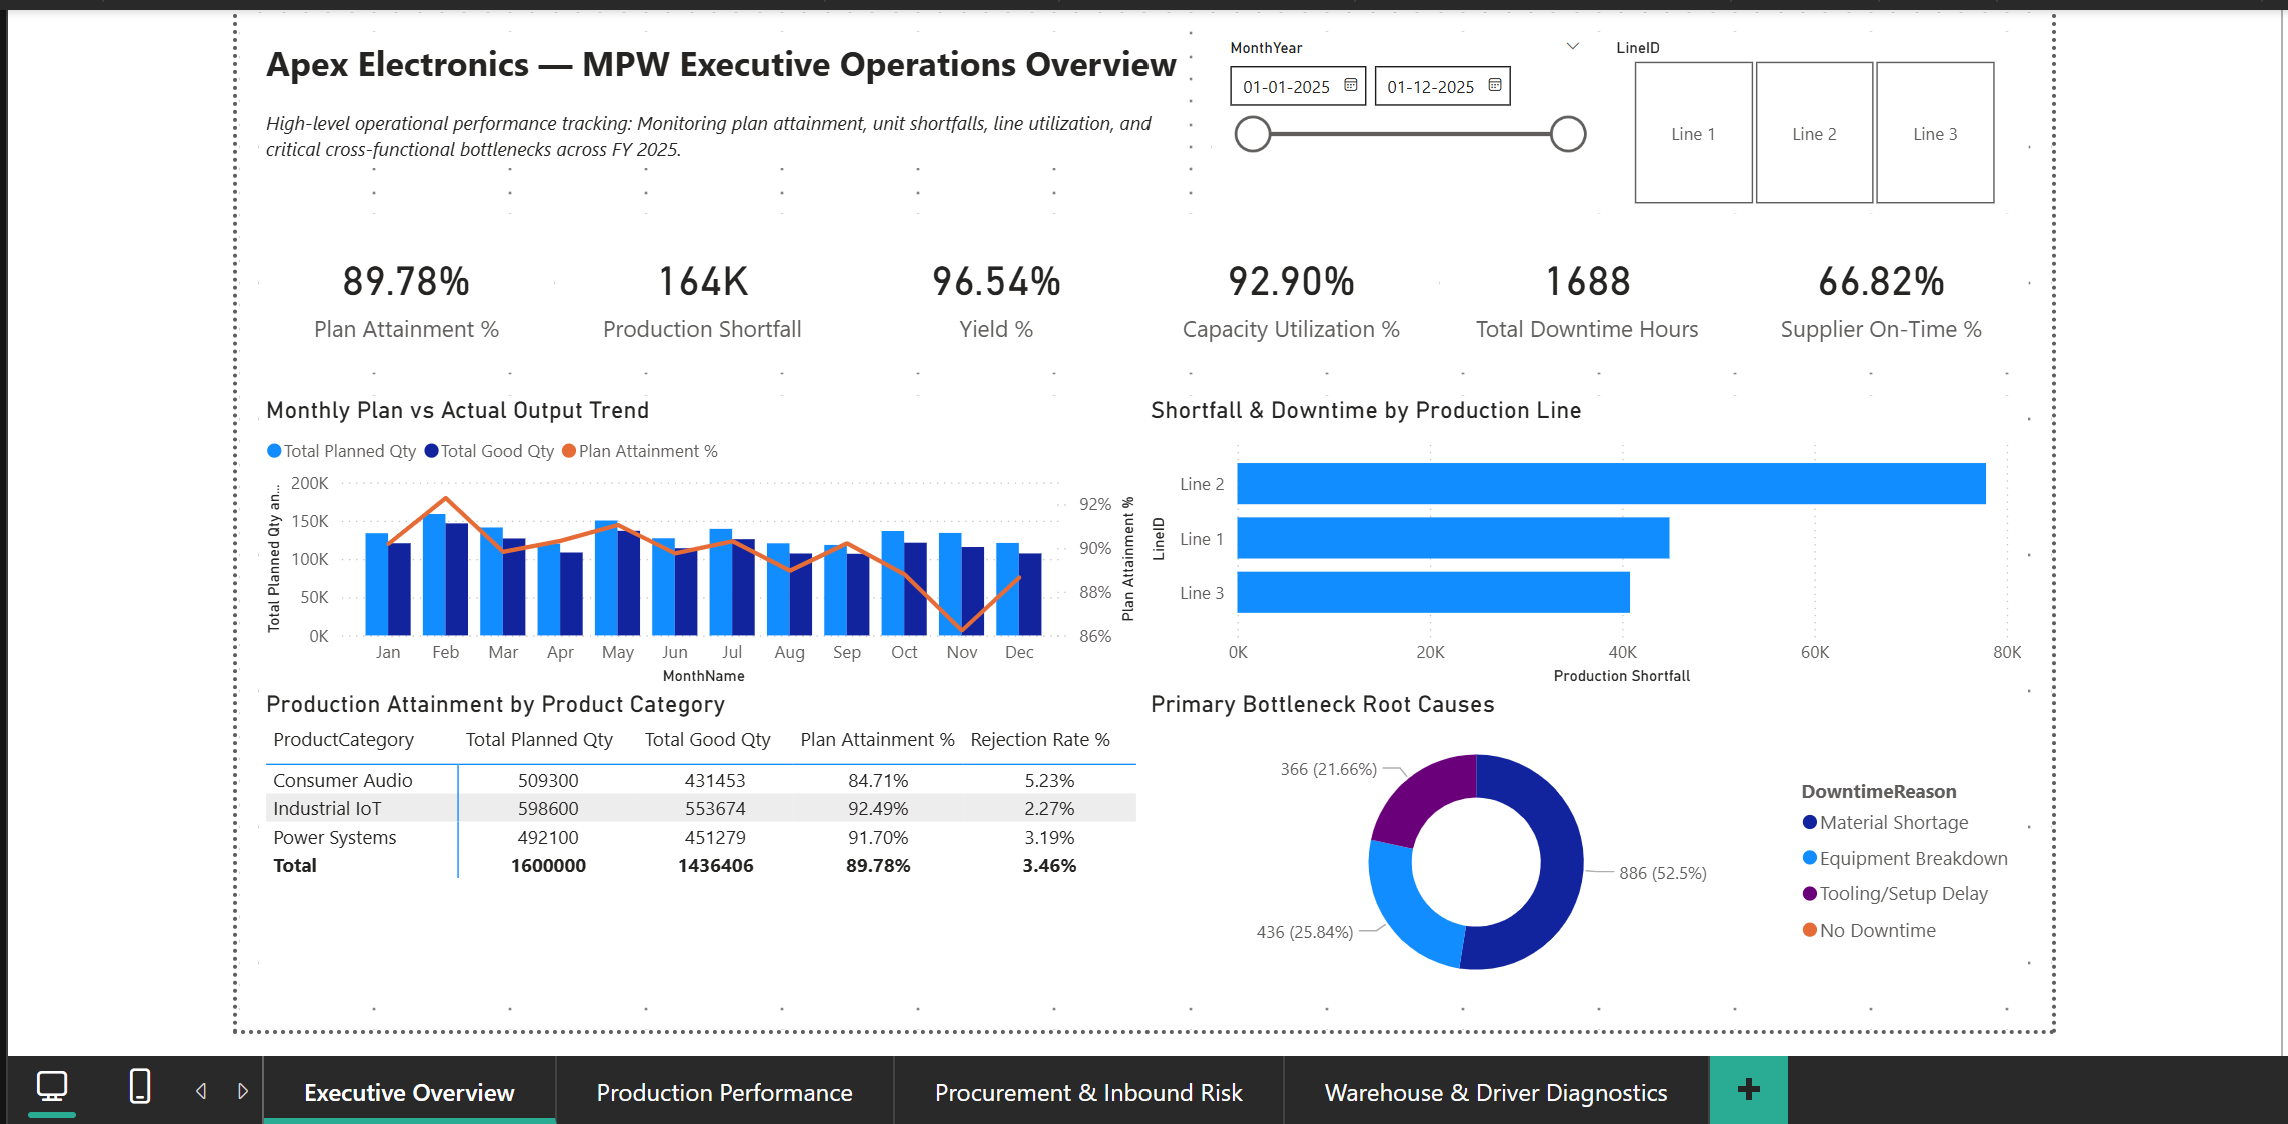

What the dashboard file says about the page in this screenshot:
{"tool":"powerbi","page":{"name":"Executive Overview","canvas":[1280,720],"ordinal":0},"visuals":[{"type":"textbox","box":[16,16,656,96],"z":0},{"type":"slicer","fields":{"Values":["Fact_ProductionRun.LineID"]},"box":[960,16,304,128],"z":1000},{"type":"slicer","fields":{"Values":["Dim_Date.MonthYear"]},"box":[688,16,272,128],"z":2000},{"type":"card","fields":{"Values":["_Measures.Plan Attainment %"]},"box":[16,144,208,112],"z":3000},{"type":"card","fields":{"Values":["_Measures.Production Shortfall"]},"box":[224,144,208,112],"z":4000},{"type":"card","fields":{"Values":["_Measures.Yield %"]},"box":[432,144,208,112],"z":5000},{"type":"card","fields":{"Values":["_Measures.Capacity Utilization %"]},"box":[640,144,208,112],"z":6000},{"type":"card","fields":{"Values":["_Measures.Total Downtime Hours"]},"box":[848,144,208,112],"z":7000},{"type":"card","fields":{"Values":["_Measures.Supplier On-Time %"]},"box":[1056,144,208,112],"z":8000},{"type":"lineClusteredColumnComboChart","title":"Monthly Plan vs Actual Output Trend","fields":{"Category":["Dim_Date.MonthName"],"Y":["_Measures.Total Planned Qty","_Measures.Total Good Qty"],"Y2":["_Measures.Plan Attainment %"]},"box":[16,272,624,208],"z":9000},{"type":"clusteredBarChart","title":"Shortfall & Downtime by Production Line","fields":{"Category":["Fact_ProductionRun.LineID"],"Y":["_Measures.Production Shortfall"]},"box":[640,272,624,208],"z":10000},{"type":"pivotTable","title":"Production Attainment by Product Category","fields":{"Rows":["Dim_Product.ProductCategory"],"Values":["_Measures.Total Planned Qty","_Measures.Total Good Qty","_Measures.Plan Attainment %","_Measures.Rejection Rate %"]},"box":[16,480,624,224],"z":11000},{"type":"donutChart","title":"Primary Bottleneck Root Causes","fields":{"Category":["Fact_ProductionRun.DowntimeReason"],"Y":["_Measures.Total Downtime Hours"]},"box":[640,480,624,224],"z":12000}]}

Visuals, with their boxes on the page's 1280x720 design canvas (x1, y1, x2, y2). These are canvas units, not pixel positions in the 2288x1124 screenshot, which may show the page scaled, cropped or inside an application window:
textbox: x1=16 y1=16 x2=672 y2=112
slicer - Fact_ProductionRun.LineID: x1=960 y1=16 x2=1264 y2=144
slicer - Dim_Date.MonthYear: x1=688 y1=16 x2=960 y2=144
card - _Measures.Plan Attainment %: x1=16 y1=144 x2=224 y2=256
card - _Measures.Production Shortfall: x1=224 y1=144 x2=432 y2=256
card - _Measures.Yield %: x1=432 y1=144 x2=640 y2=256
card - _Measures.Capacity Utilization %: x1=640 y1=144 x2=848 y2=256
card - _Measures.Total Downtime Hours: x1=848 y1=144 x2=1056 y2=256
card - _Measures.Supplier On-Time %: x1=1056 y1=144 x2=1264 y2=256
"Monthly Plan vs Actual Output Trend" lineClusteredColumnComboChart: x1=16 y1=272 x2=640 y2=480
"Shortfall & Downtime by Production Line" clusteredBarChart: x1=640 y1=272 x2=1264 y2=480
"Production Attainment by Product Category" pivotTable: x1=16 y1=480 x2=640 y2=704
"Primary Bottleneck Root Causes" donutChart: x1=640 y1=480 x2=1264 y2=704
